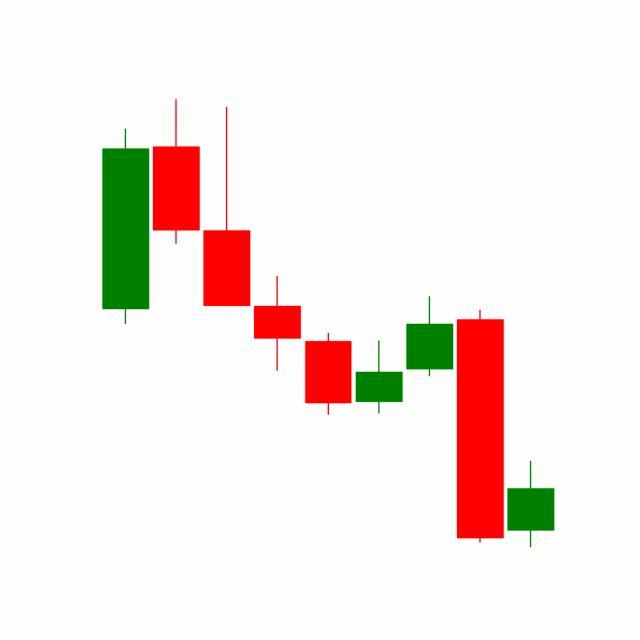Hikkake Pattern: (252, 273, 506, 547)
